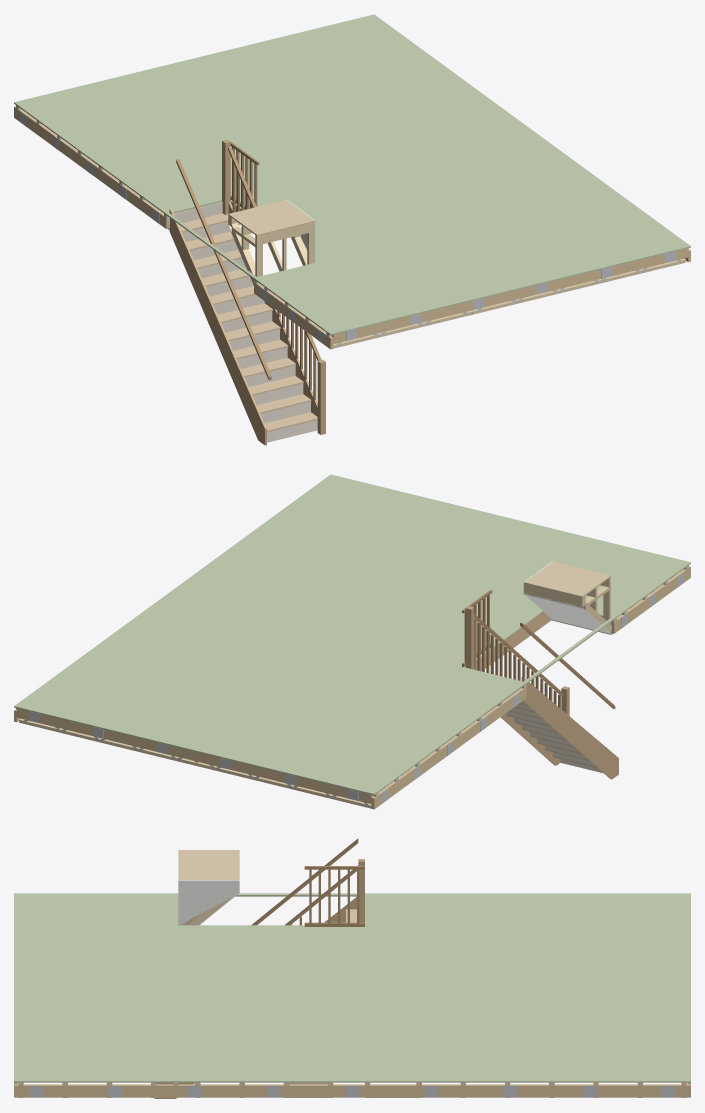
File: stage-3.glb
3 renders of one model, top to bottom at view 1: azimuth 30°, elevation 25°; view 2: azimuth 150°, elevation 25°; view 3: azimuth 270°, elevation 25°, orthographic. The views are drawn at different scales.
Visible parts, largest first — view 1: Geom3D (×10); view 2: Geom3D (×11); view 3: Geom3D (×8).
Part boxes in pixels (bbox=[...]): Geom3D (×10): bbox=[14, 14, 690, 445]; Geom3D (×11): bbox=[14, 474, 690, 809]; Geom3D (×8): bbox=[14, 838, 690, 1098].
Size of the model in its own units: 6.03 by 3.55 by 9.18.
